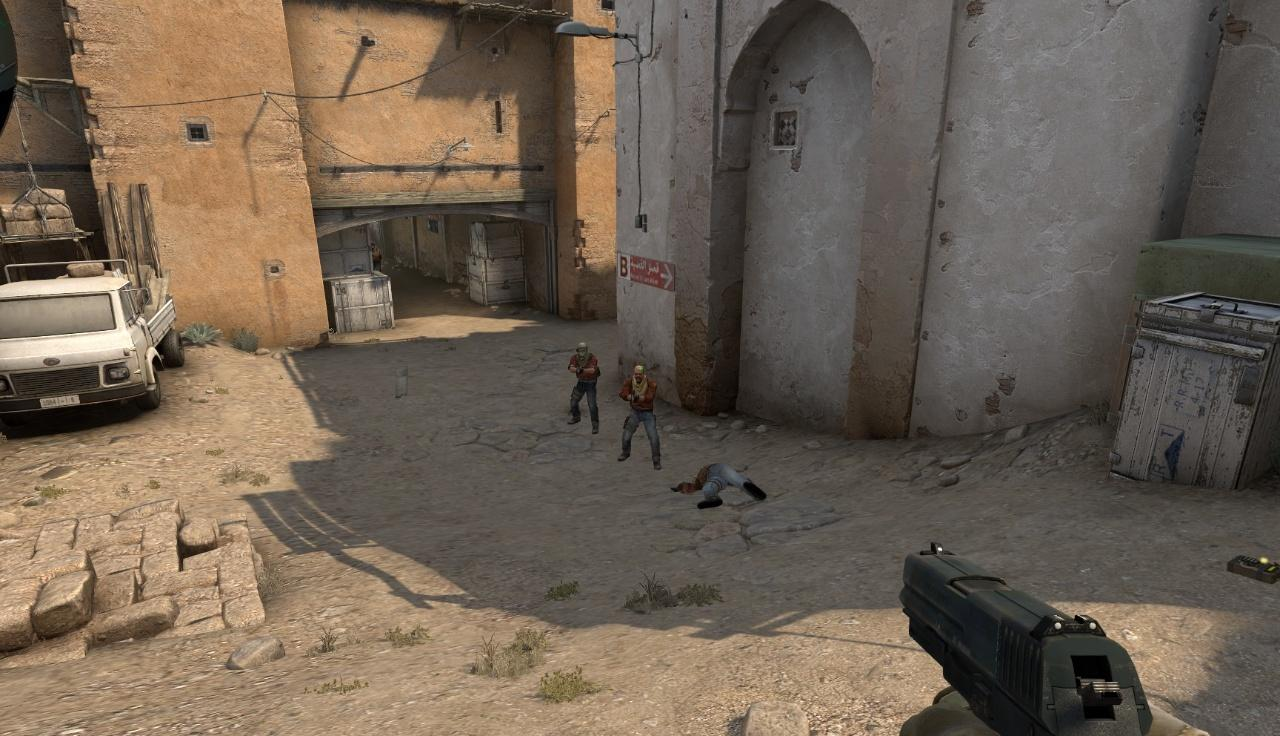pistol: (903, 544, 1153, 736)
tt: (621, 364, 659, 468), (569, 343, 599, 430), (372, 244, 382, 271)
tthead: (576, 344, 587, 358), (635, 365, 643, 382)
